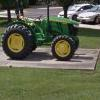Tractor: (9, 5, 85, 68)
